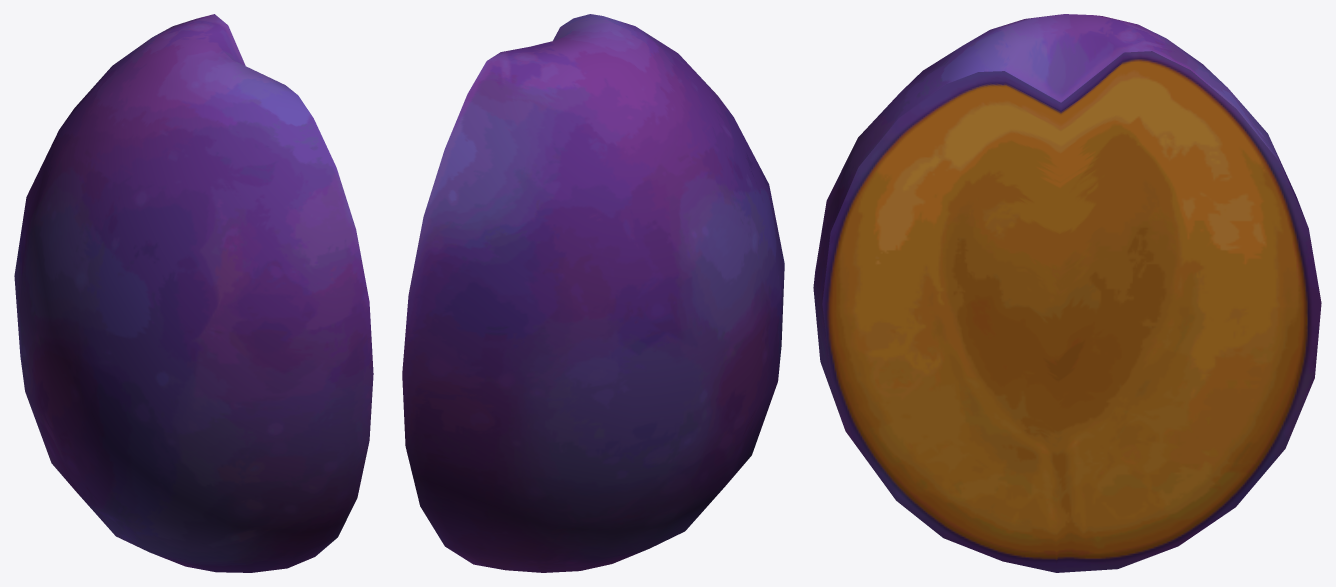
Rendered from SM_PlumCutB.fbx.
The picture shows the model from 3 angles, left to right: view 1: azimuth 30°, elevation 25°; view 2: azimuth 150°, elevation 25°; view 3: azimuth 270°, elevation 25°; orthographic projection. The views are drawn at different scales.
Visible parts, largest first — view 1: SM_PlumCutB; view 2: SM_PlumCutB; view 3: SM_PlumCutB.
Part boxes in pixels (x1,y1,x2,y2): SM_PlumCutB: (14,14,373,572); SM_PlumCutB: (402,14,784,572); SM_PlumCutB: (813,14,1321,572).
Size of the model in its own units: 4.83 by 11.07 by 9.7.
